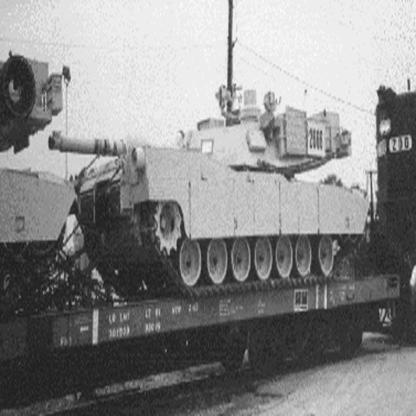Tank: (56, 84, 374, 304)
